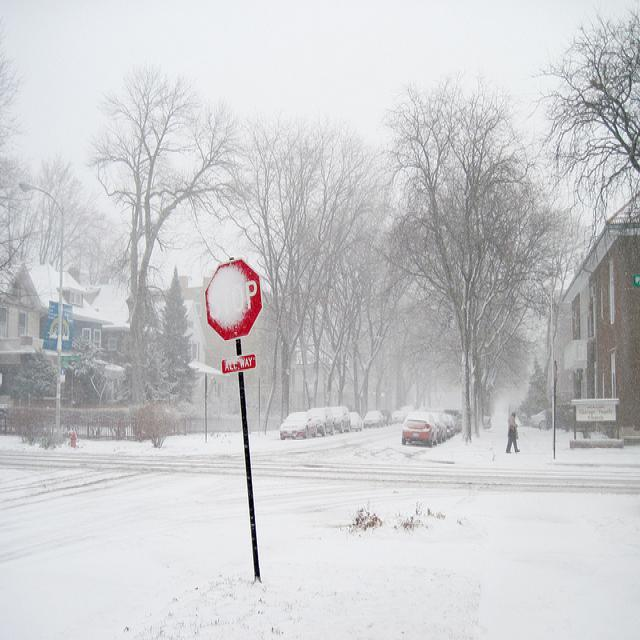fire_hydrant: (68, 431, 76, 446)
